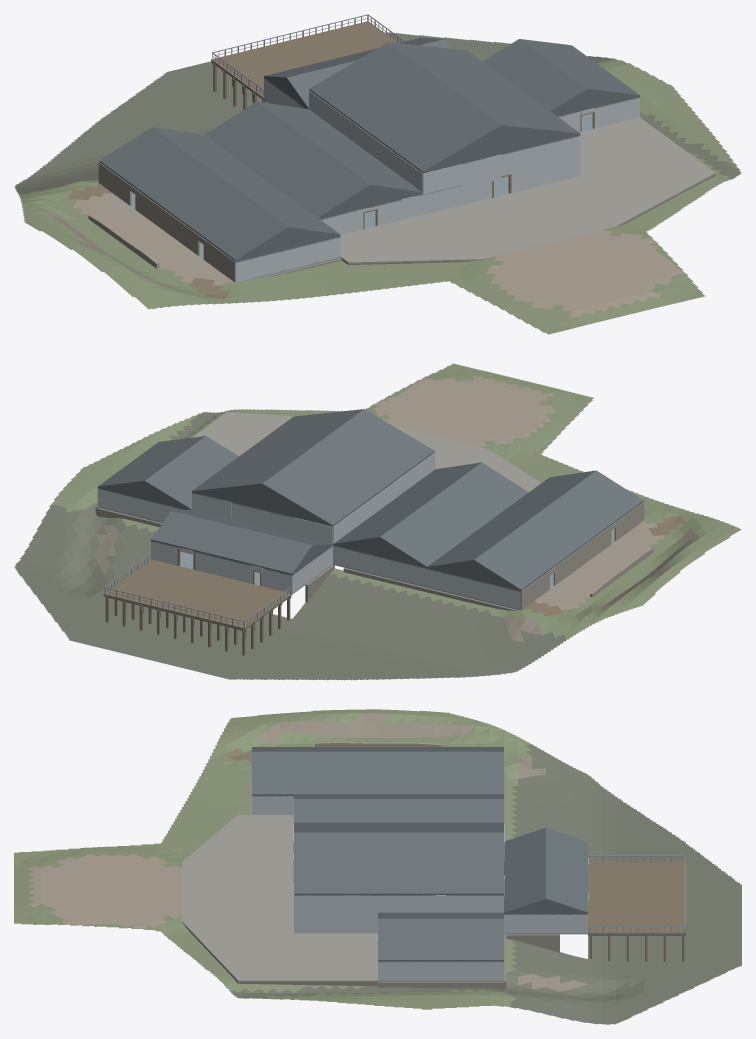
The model's file is workyard-station.glb.
3 renders of one model, top to bottom at view 1: azimuth 30°, elevation 25°; view 2: azimuth 150°, elevation 25°; view 3: azimuth 270°, elevation 25°, orthographic. The views are drawn at different scales.
Parts seen in each view (by area): view 1: WLD-13 saved ground, WLD-13 cannery service yard structural surface region0, processing-hall roof west, crew-mess-and-bunks roof west, boiler-and-wash roof west, processing-hall roof east, WLD-13 shore loading dock structural surface region0, crew-mess-and-bunks roof east, boiler-and-wash roof east, cold-store roof west, WLD-13 clean processing S end, cold-store roof east (+18 smaller); view 2: WLD-13 saved ground, processing-hall roof west, crew-mess-and-bunks roof west, WLD-13 shore loading dock structural surface region0, boiler-and-wash roof west, office-and-stores roof north, WLD-13 cannery service yard structural surface region0, processing-hall roof east, crew-mess-and-bunks roof east, cold-store roof west, boiler-and-wash roof east, cold-store roof east (+18 smaller); view 3: WLD-13 saved ground, WLD-13 cannery service yard structural surface region0, processing-hall roof east, crew-mess-and-bunks roof east, WLD-13 shore loading dock structural surface region0, cold-store roof east, boiler-and-wash roof east, WLD-13 clean processing E end, office-and-stores roof south, office-and-stores roof north, WLD-13 clean cold E end, processing-hall roof west (+9 smaller).
Part boxes in pixels (box(x1,y1,x2,y2)): WLD-13 saved ground: box(14, 32, 741, 334); WLD-13 cannery service yard structural surface region0: box(340, 117, 715, 263); processing-hall roof west: box(309, 42, 501, 172); crew-mess-and-bunks roof west: box(99, 127, 288, 261); boiler-and-wash roof west: box(205, 101, 370, 218); processing-hall roof east: box(388, 42, 580, 134); WLD-13 shore loading dock structural surface region0: box(211, 21, 396, 99); crew-mess-and-bunks roof east: box(152, 127, 340, 235); boiler-and-wash roof east: box(257, 101, 422, 193); cold-store roof west: box(482, 39, 587, 111); WLD-13 clean processing S end: box(511, 136, 580, 192); cold-store roof east: box(520, 39, 639, 96); WLD-13 saved ground: box(14, 363, 741, 680); processing-hall roof west: box(262, 409, 434, 526); crew-mess-and-bunks roof west: box(474, 470, 643, 590); WLD-13 shore loading dock structural surface region0: box(103, 559, 292, 629); boiler-and-wash roof west: box(380, 462, 528, 567); office-and-stores roof north: box(151, 511, 312, 574); WLD-13 cannery service yard structural surface region0: box(192, 412, 541, 491); processing-hall roof east: box(192, 409, 363, 492); crew-mess-and-bunks roof east: box(427, 470, 595, 568); cold-store roof west: box(144, 436, 238, 509); boiler-and-wash roof east: box(333, 462, 481, 545); cold-store roof east: box(98, 436, 205, 487); WLD-13 saved ground: box(14, 709, 741, 1024); WLD-13 cannery service yard structural surface region0: box(182, 815, 377, 981); processing-hall roof east: box(294, 832, 503, 894); crew-mess-and-bunks roof east: box(252, 751, 503, 795); WLD-13 shore loading dock structural surface region0: box(588, 862, 685, 934); cold-store roof east: box(378, 918, 503, 961); boiler-and-wash roof east: box(294, 799, 503, 822); WLD-13 clean processing E end: box(295, 895, 430, 933); office-and-stores roof south: box(504, 827, 545, 913); office-and-stores roof north: box(546, 827, 587, 913); WLD-13 clean cold E end: box(379, 961, 502, 980); processing-hall roof west: box(294, 822, 503, 832).
Size of the model in its own units: 97 by 15.43 by 104.
Materials: 36 (17 with a texture image).
